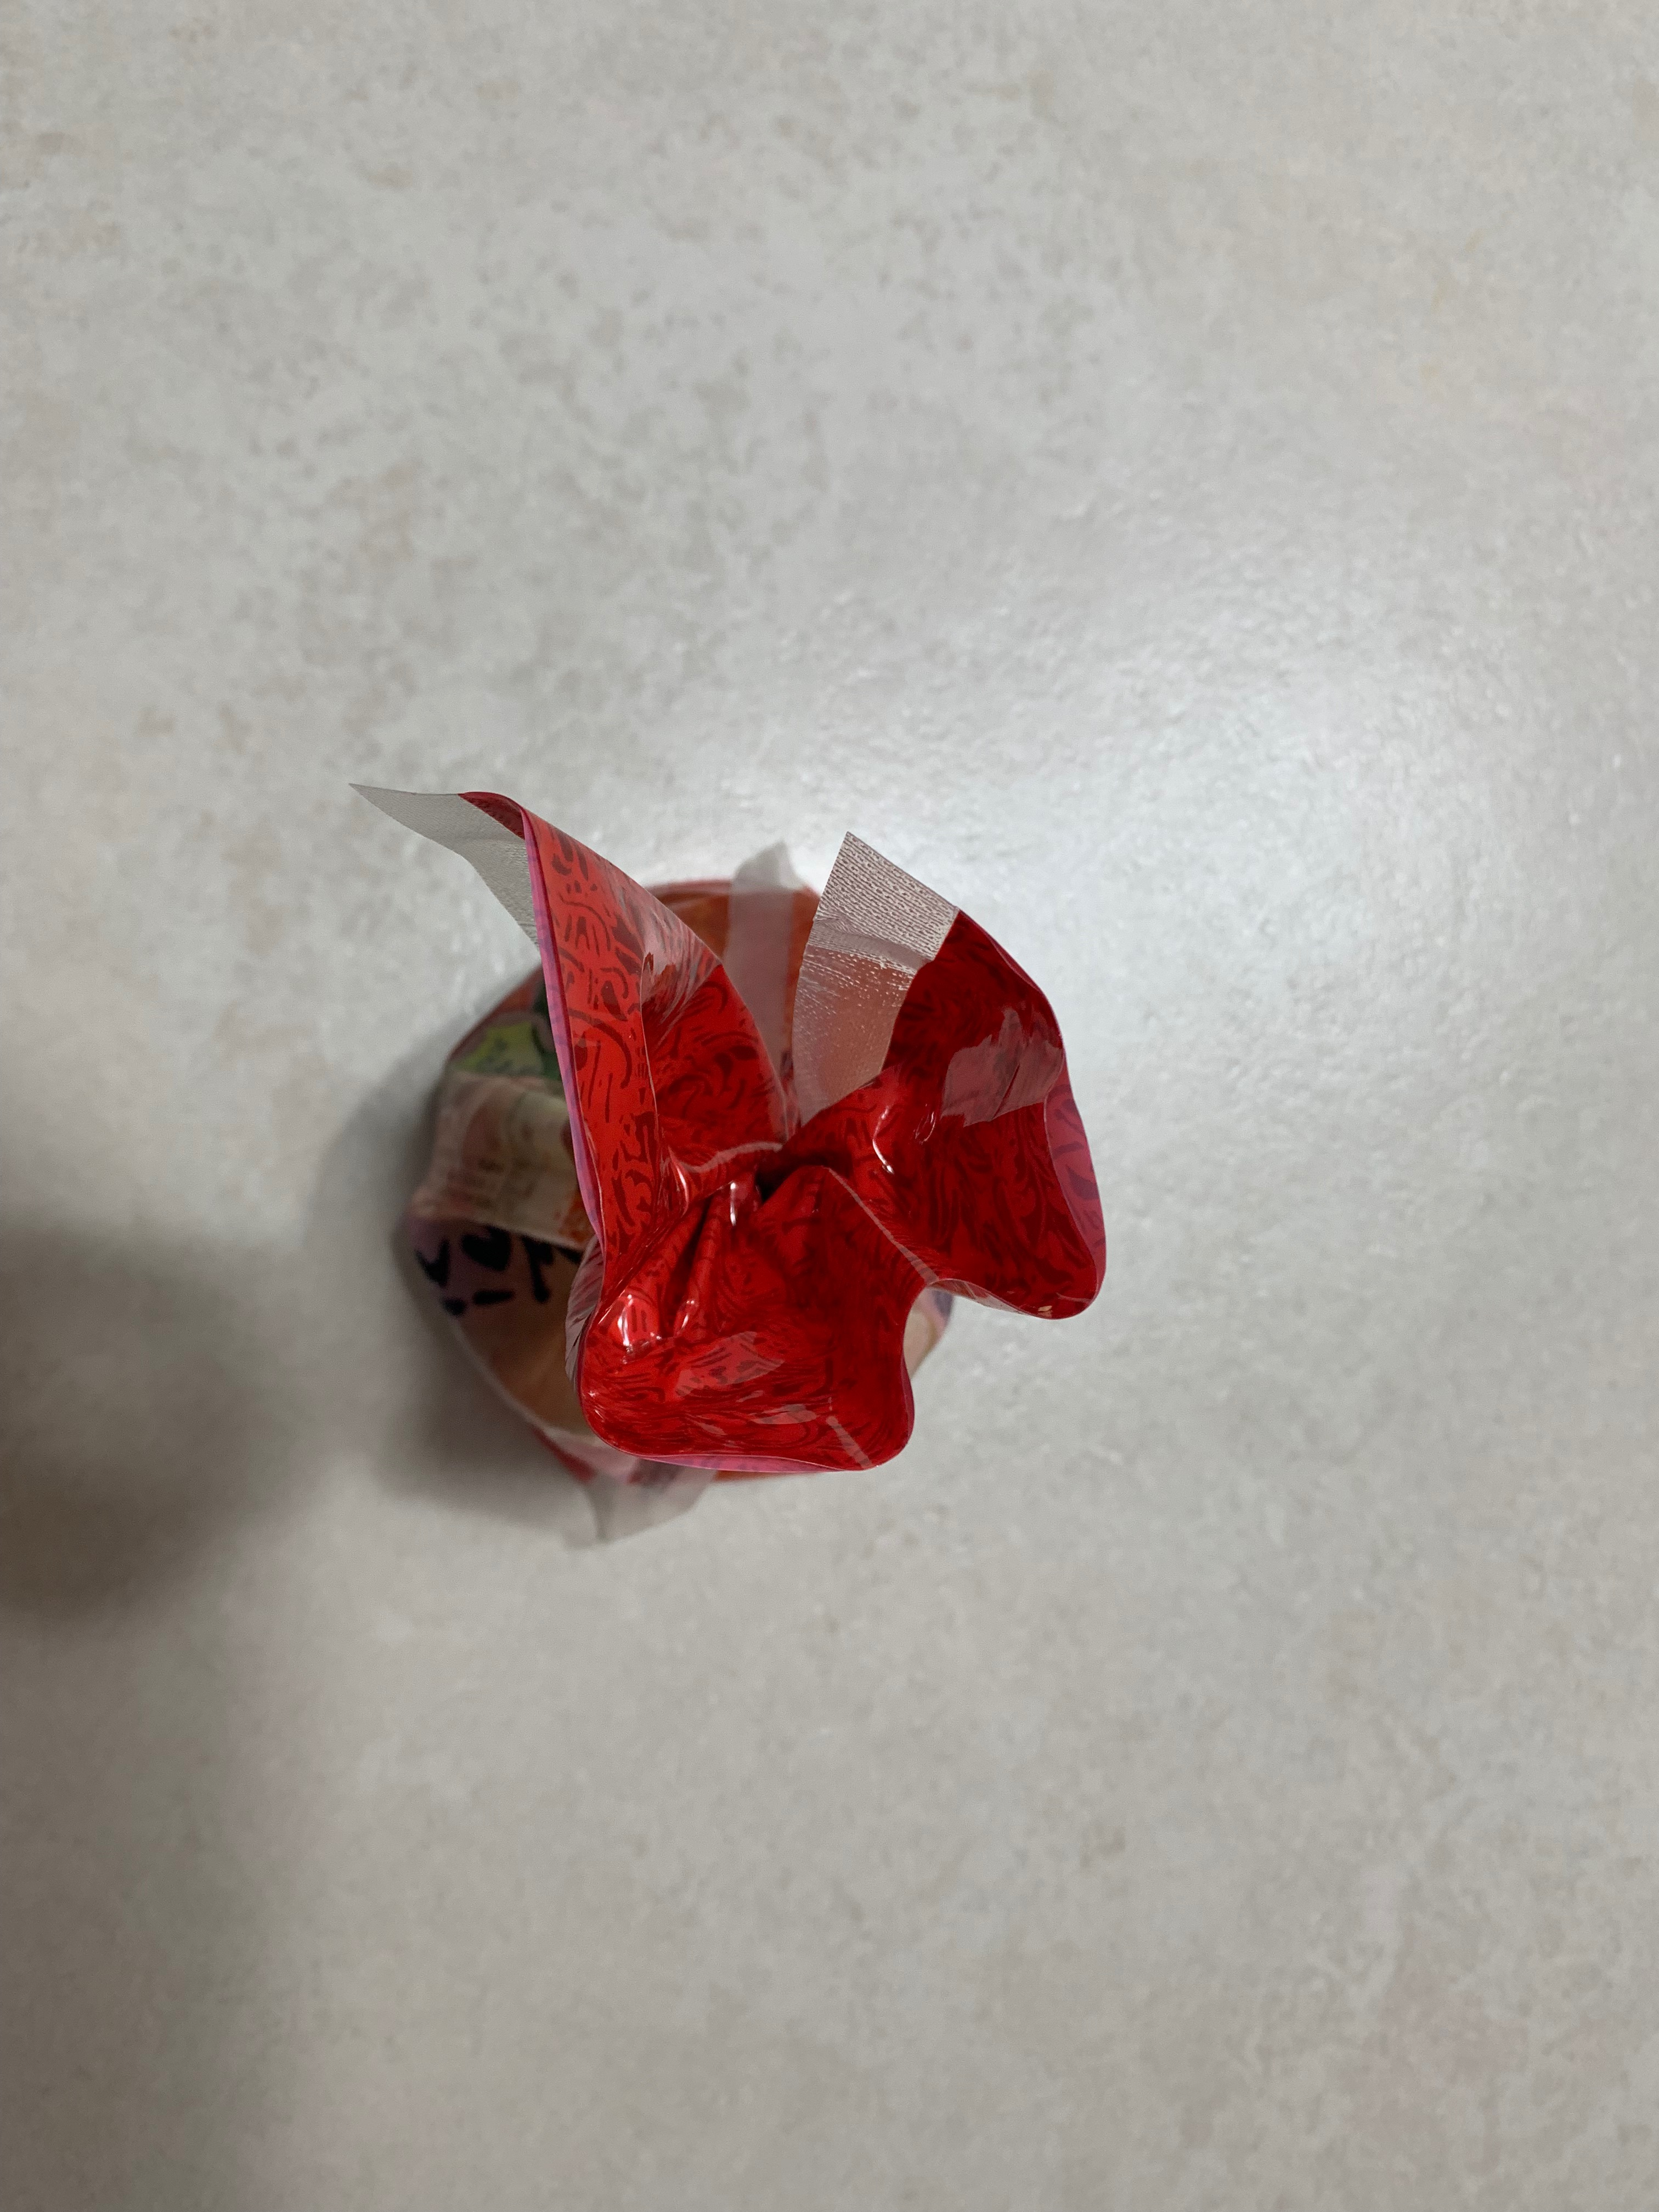kimchi: (376, 780, 1112, 1548)
